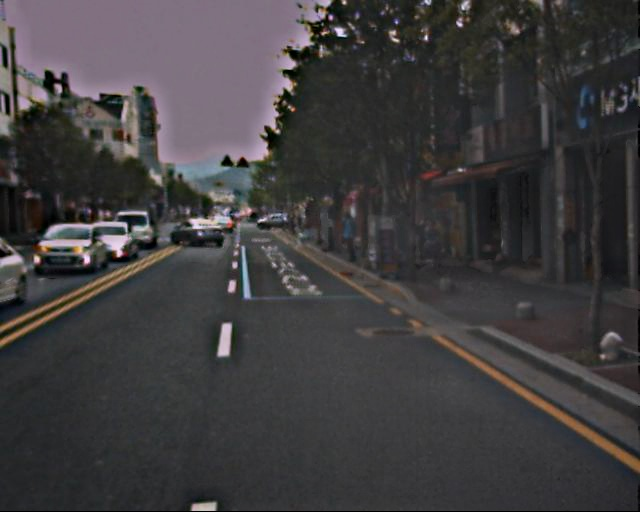person: (338, 209, 360, 263), (422, 220, 443, 270)
